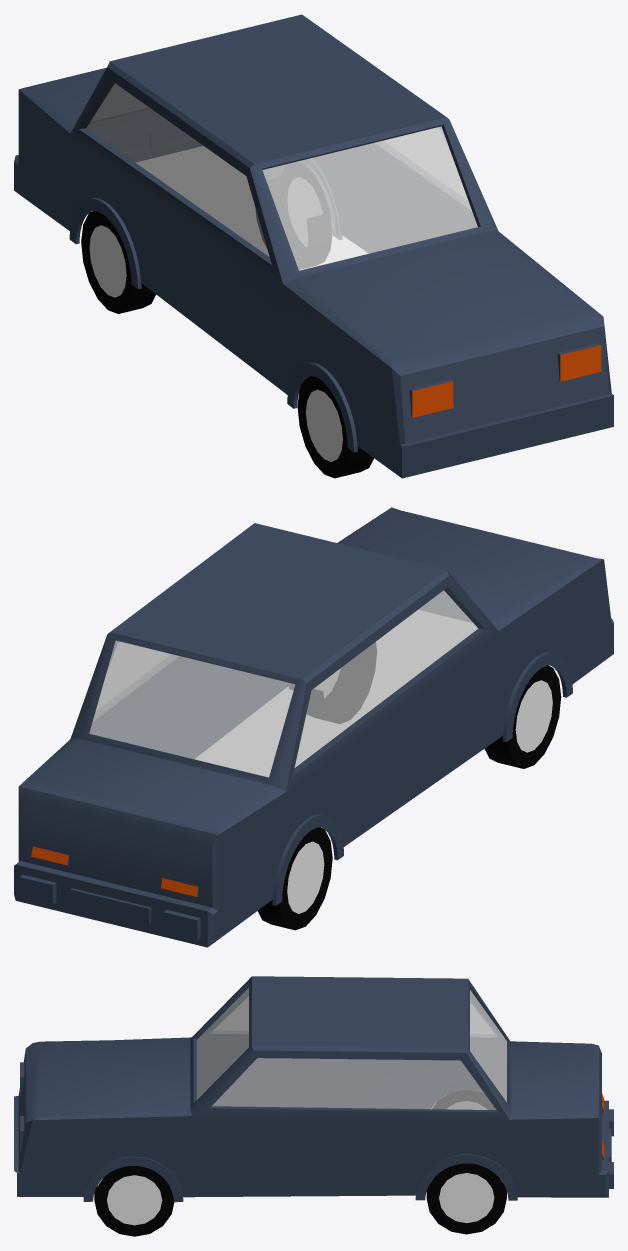
File: MS_Car01.fbx
The picture shows the model from 3 angles, top to bottom: view 1: azimuth 30°, elevation 25°; view 2: azimuth 150°, elevation 25°; view 3: azimuth 270°, elevation 25°; orthographic projection. The views are drawn at different scales.
Parts seen in each view (by area): view 1: MS_Car01; view 2: MS_Car01; view 3: MS_Car01.
Part boxes in pixels (<box>): MS_Car01: <box>14,14,613,478</box>; MS_Car01: <box>14,507,613,947</box>; MS_Car01: <box>14,976,613,1236</box>.
Bounding box in the file's own units: 71.78 × 230 × 79.15.
